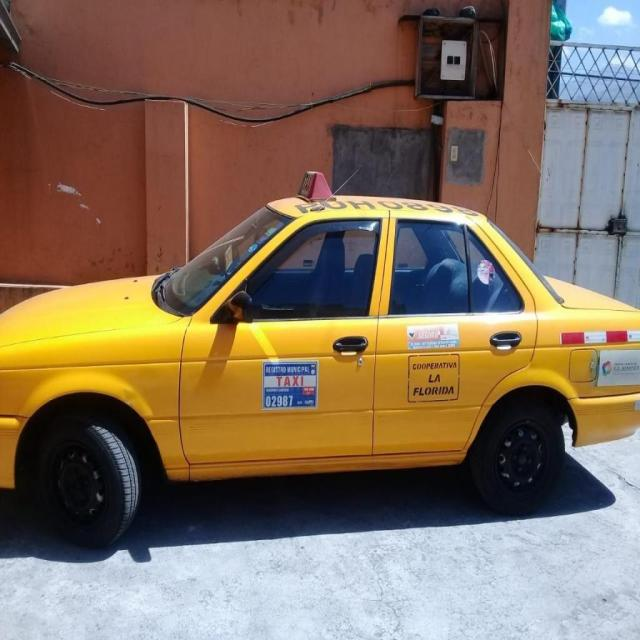Taxi: (0, 156, 640, 563)
